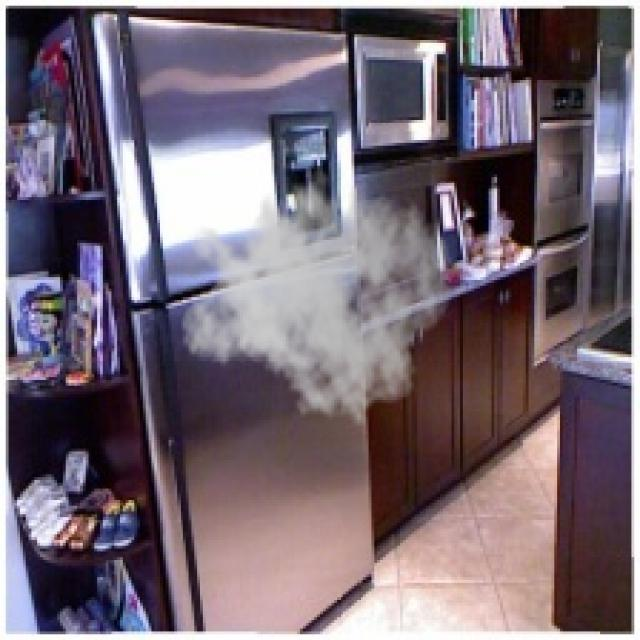smoke: (177, 148, 454, 428)
